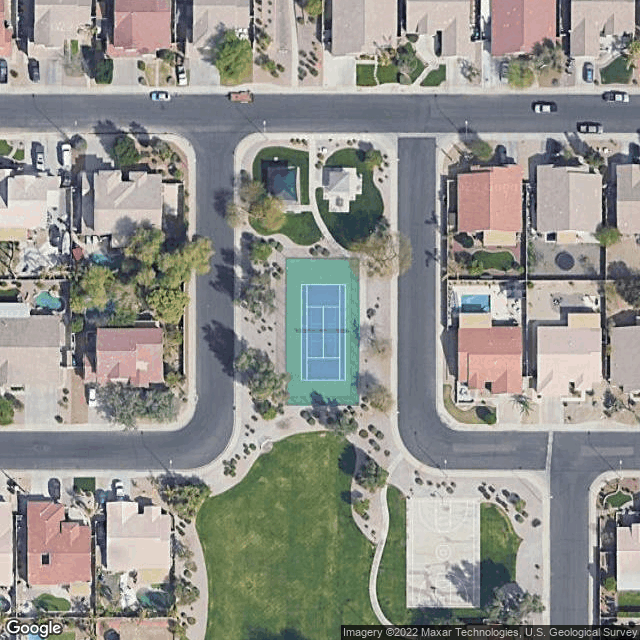Court: (298, 281, 349, 383)
